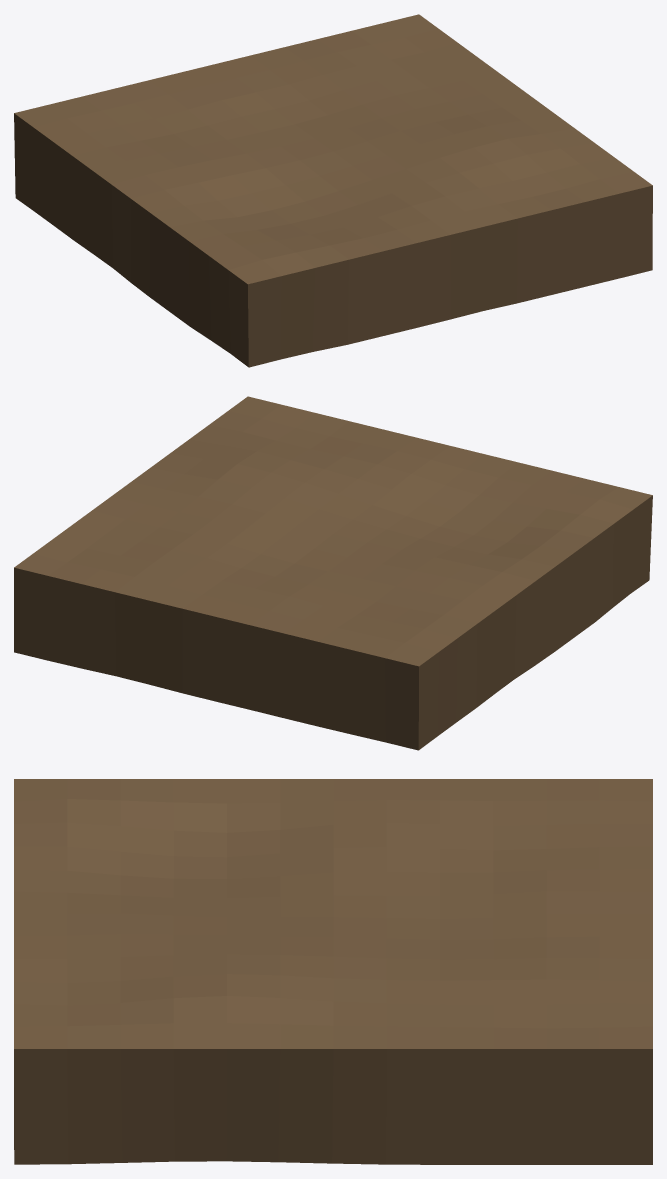
File: dirt_01.glb
3 views of the same model, one above another, from view 1: azimuth 30°, elevation 25°; view 2: azimuth 150°, elevation 25°; view 3: azimuth 270°, elevation 25° (orthographic). The views are drawn at different scales.
Parts seen in each view (by area): view 1: Grid; view 2: Grid; view 3: Grid.
Boxes of the visible parts, x1,y1,x2,y2 form: Grid: (14, 14, 652, 367); Grid: (14, 396, 652, 750); Grid: (14, 779, 652, 1164).
Size of the model in its own units: 1 by 0.2141 by 1.
